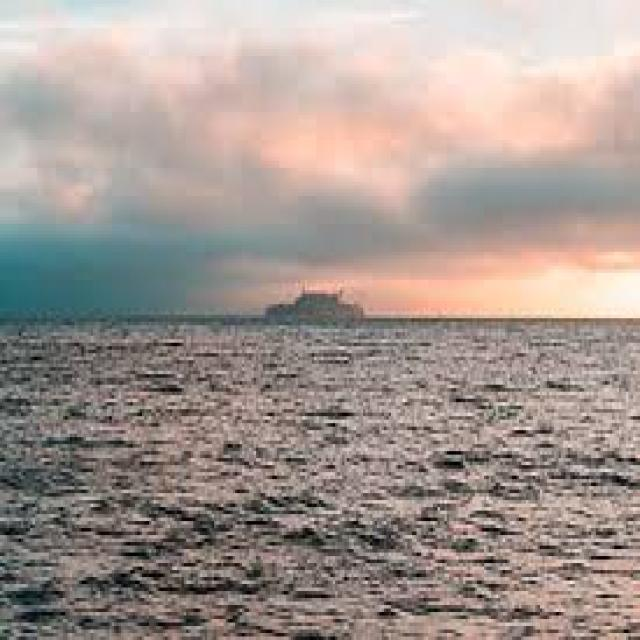fishing boat: (263, 269, 364, 335)
